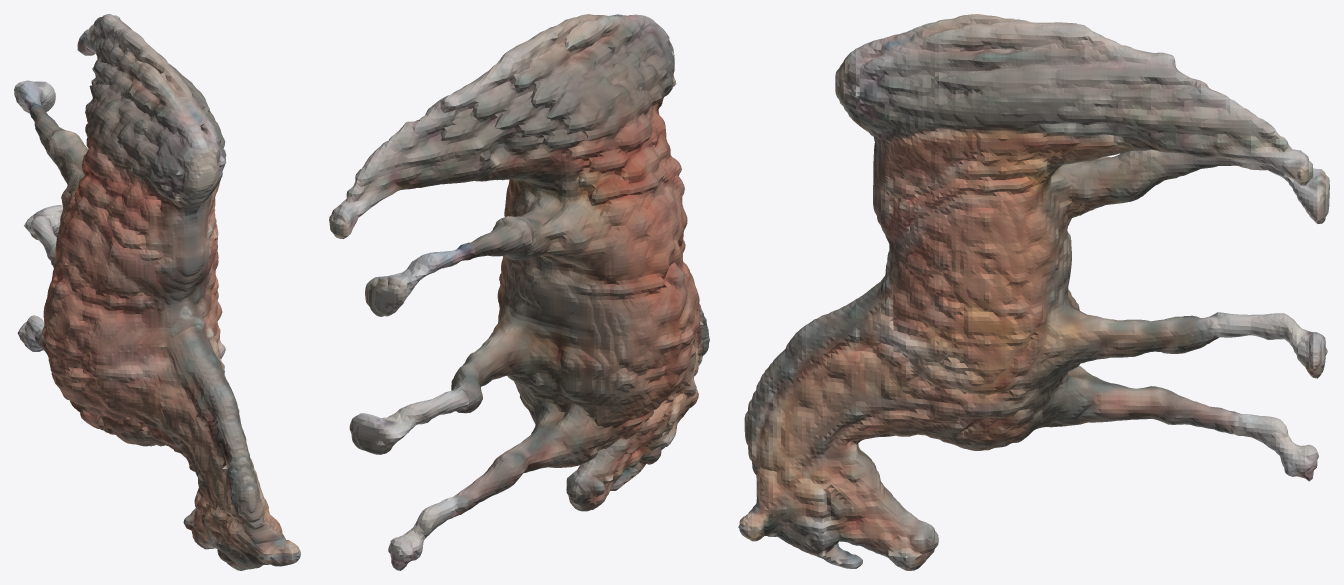
The picture shows the model from 3 angles, left to right: view 1: azimuth 30°, elevation 25°; view 2: azimuth 150°, elevation 25°; view 3: azimuth 270°, elevation 25°; orthographic projection. The views are drawn at different scales.
Visible parts, largest first — view 1: world; view 2: world; view 3: world.
Boxes of the visible parts, left/top/right/bottom form: world: left=14, top=14, right=300, bottom=570; world: left=329, top=14, right=709, bottom=570; world: left=738, top=14, right=1329, bottom=570.
Bounding box in the file's own units: 0.4144 × 0.9754 × 0.9712.
